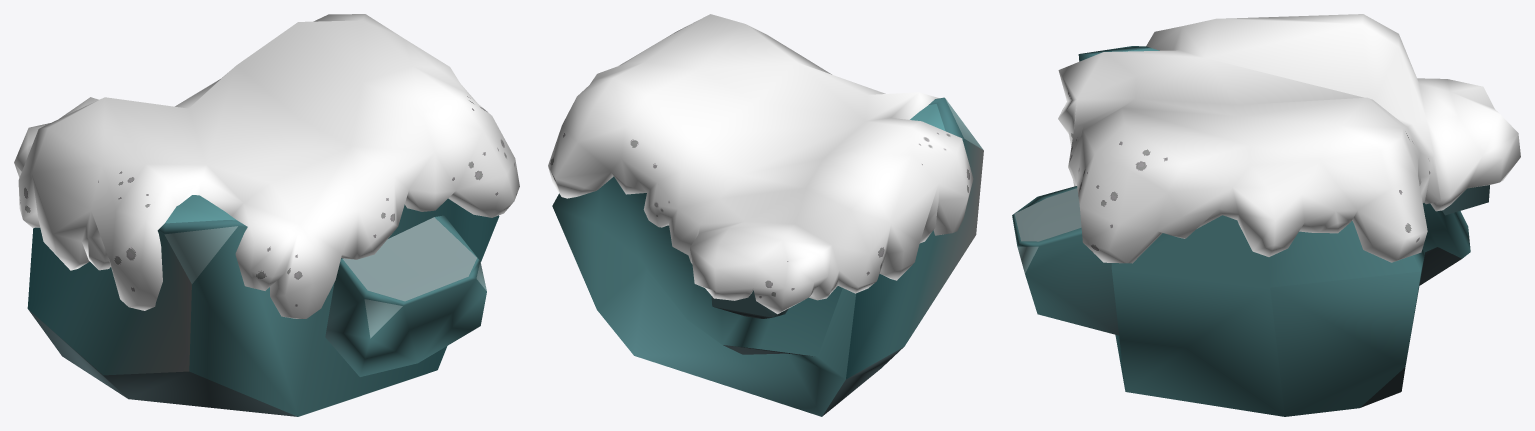
Rendered from WaterRockCGroup.fbx.
The picture shows the model from 3 angles, left to right: view 1: azimuth 30°, elevation 25°; view 2: azimuth 150°, elevation 25°; view 3: azimuth 270°, elevation 25°; orthographic projection. The views are drawn at different scales.
Parts seen in each view (by area): view 1: WaterRockCSeaweed, WaterRockC; view 2: WaterRockCSeaweed, WaterRockC; view 3: WaterRockCSeaweed, WaterRockC.
Part boxes in pixels (x1,y1,x2,y2): WaterRockCSeaweed: (14,14,519,318); WaterRockC: (27,195,499,416); WaterRockCSeaweed: (548,14,973,314); WaterRockC: (552,97,983,416); WaterRockCSeaweed: (1058,14,1520,263); WaterRockC: (1012,46,1489,416).
Bounding box in the file's own units: 377 × 267 × 397.
